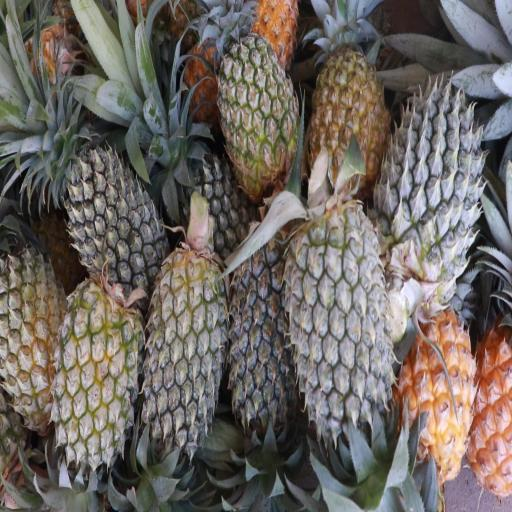------------------------------: (56, 282, 143, 460), (0, 241, 70, 429), (219, 33, 298, 184)
Pineapple - v8 v1: (402, 308, 478, 478), (308, 44, 387, 190)
